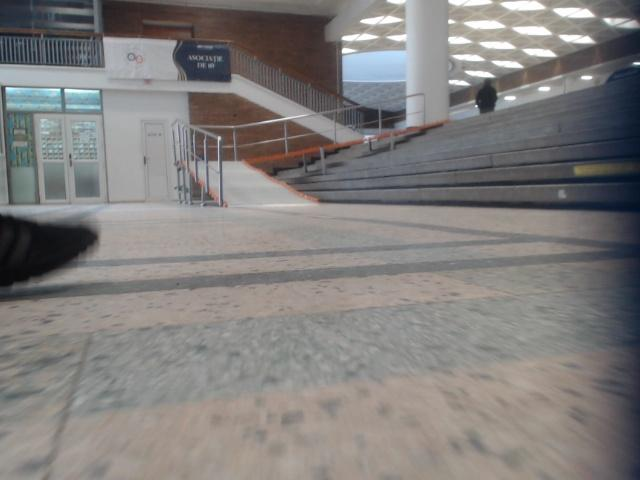rampUp: (197, 161, 315, 205)
ramps-railing: (216, 107, 364, 161), (172, 120, 225, 205)
